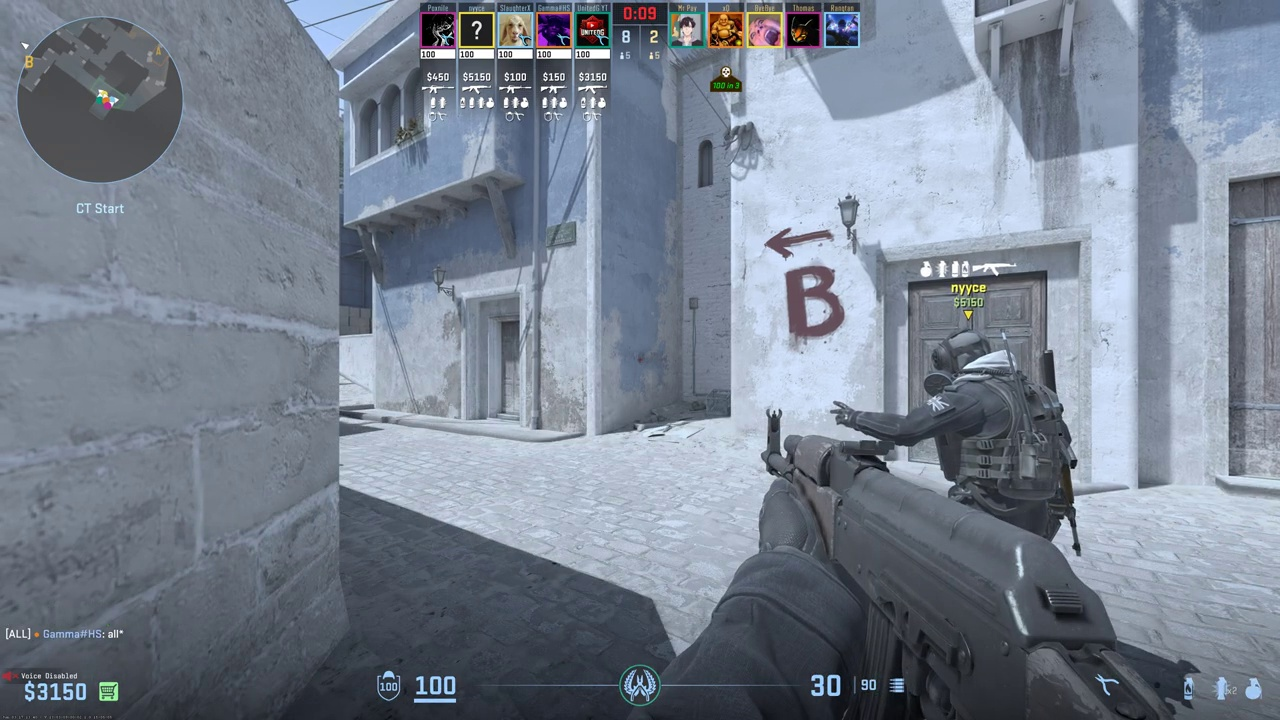CT: (932, 326, 1075, 542)
